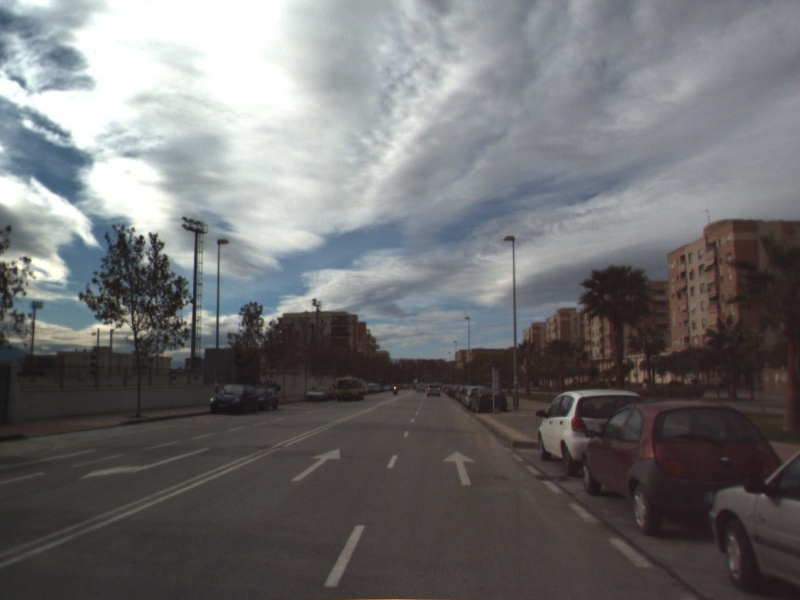STRAIGHT: (289, 447, 343, 483), (441, 449, 478, 487)
